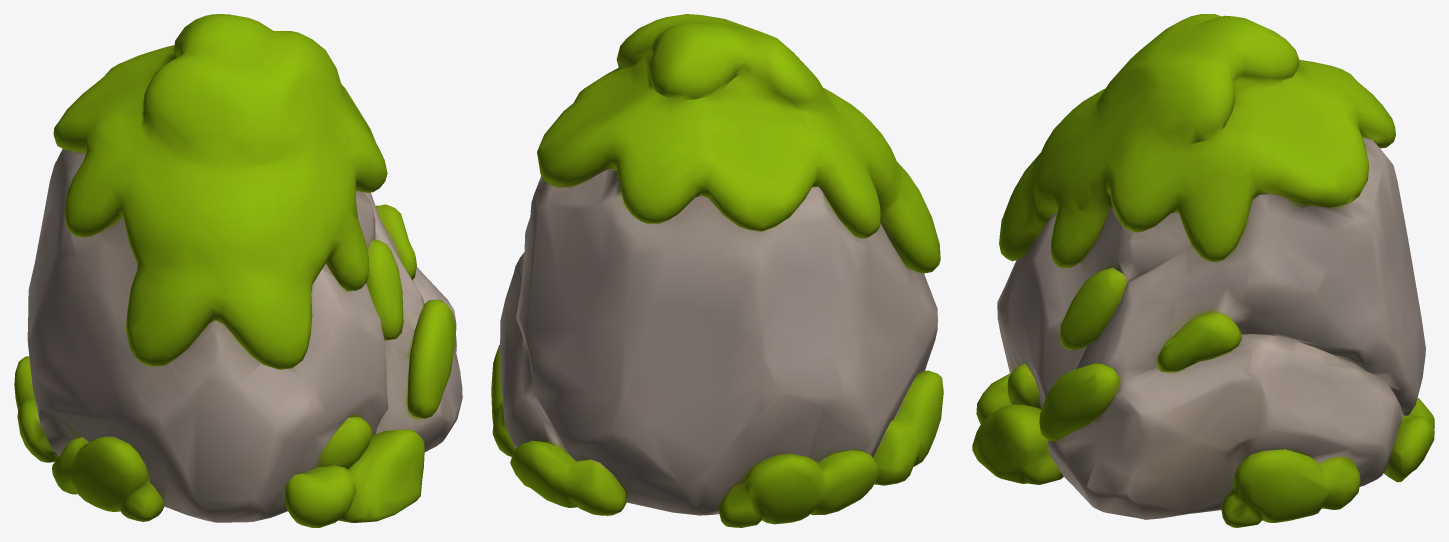
The model's file is rock_mossy.glb.
The picture shows the model from 3 angles, left to right: view 1: azimuth 30°, elevation 25°; view 2: azimuth 150°, elevation 25°; view 3: azimuth 270°, elevation 25°; orthographic projection. The views are drawn at different scales.
Visible parts, largest first — view 1: tripo_node_773c7dbe-6e37-4f21-a16e-9b837e29b7c6; view 2: tripo_node_773c7dbe-6e37-4f21-a16e-9b837e29b7c6; view 3: tripo_node_773c7dbe-6e37-4f21-a16e-9b837e29b7c6.
Boxes of the visible parts, box(x1,y1,x2,y2) form: tripo_node_773c7dbe-6e37-4f21-a16e-9b837e29b7c6: box(14, 14, 462, 527); tripo_node_773c7dbe-6e37-4f21-a16e-9b837e29b7c6: box(491, 14, 943, 527); tripo_node_773c7dbe-6e37-4f21-a16e-9b837e29b7c6: box(972, 14, 1434, 527).
Bounding box in the file's own units: 0.6637 × 0.7002 × 0.7051.
Materials: 1 (1 with a texture image).
